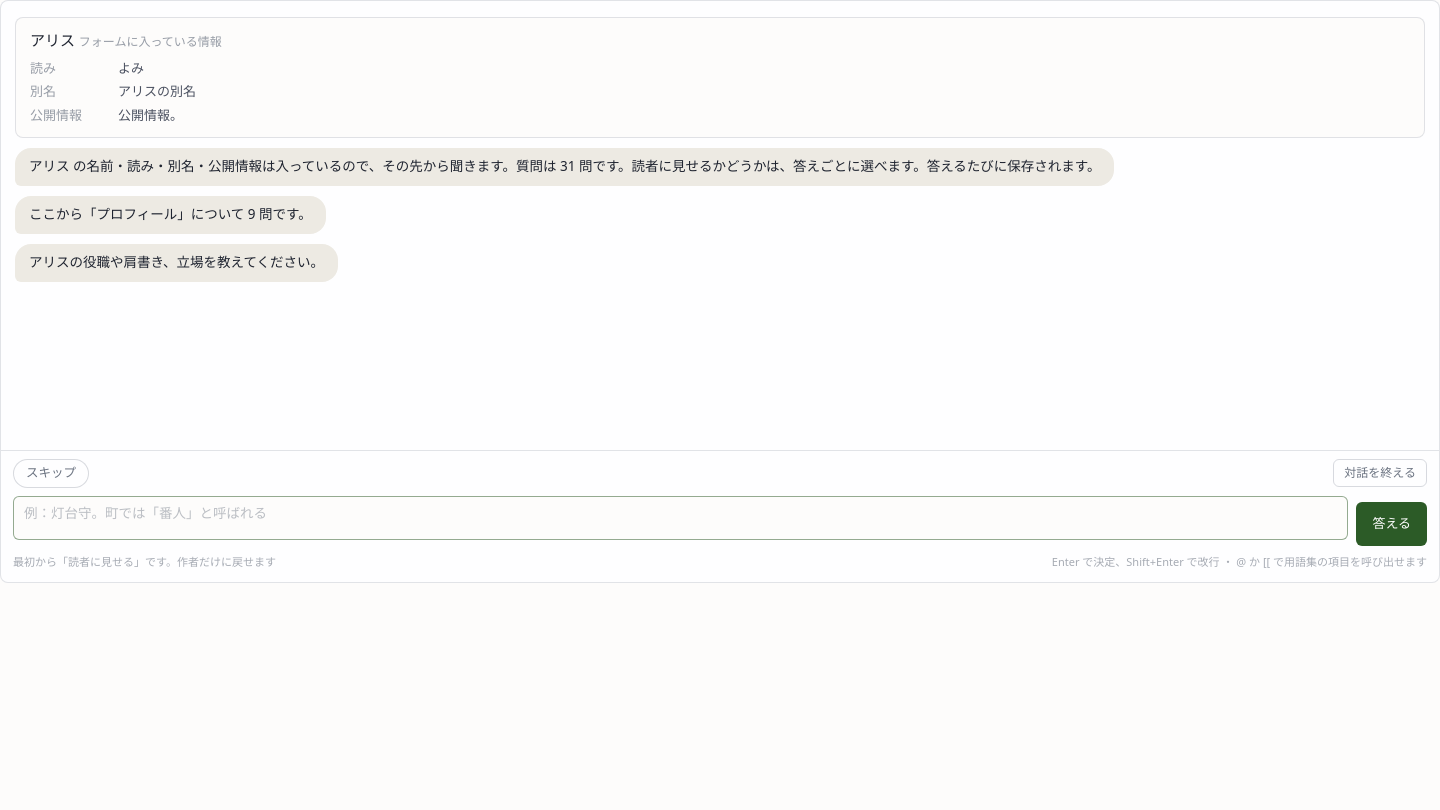
DialogPane（キー操作と保存） › @ の候補が開いている間の Enter は候補の確定で、[ [名前]] が入る（決定しない）
This screenshot has width=1440, height=810.
// 関係の問いまで飛ばす代わりに、最初の問いでそのまま試す
Type "相棒は @ボ" into the text box named "答え".
click(681, 518); type("相棒は @ボ")  # box x1=13 y1=496 x2=1348 y2=540
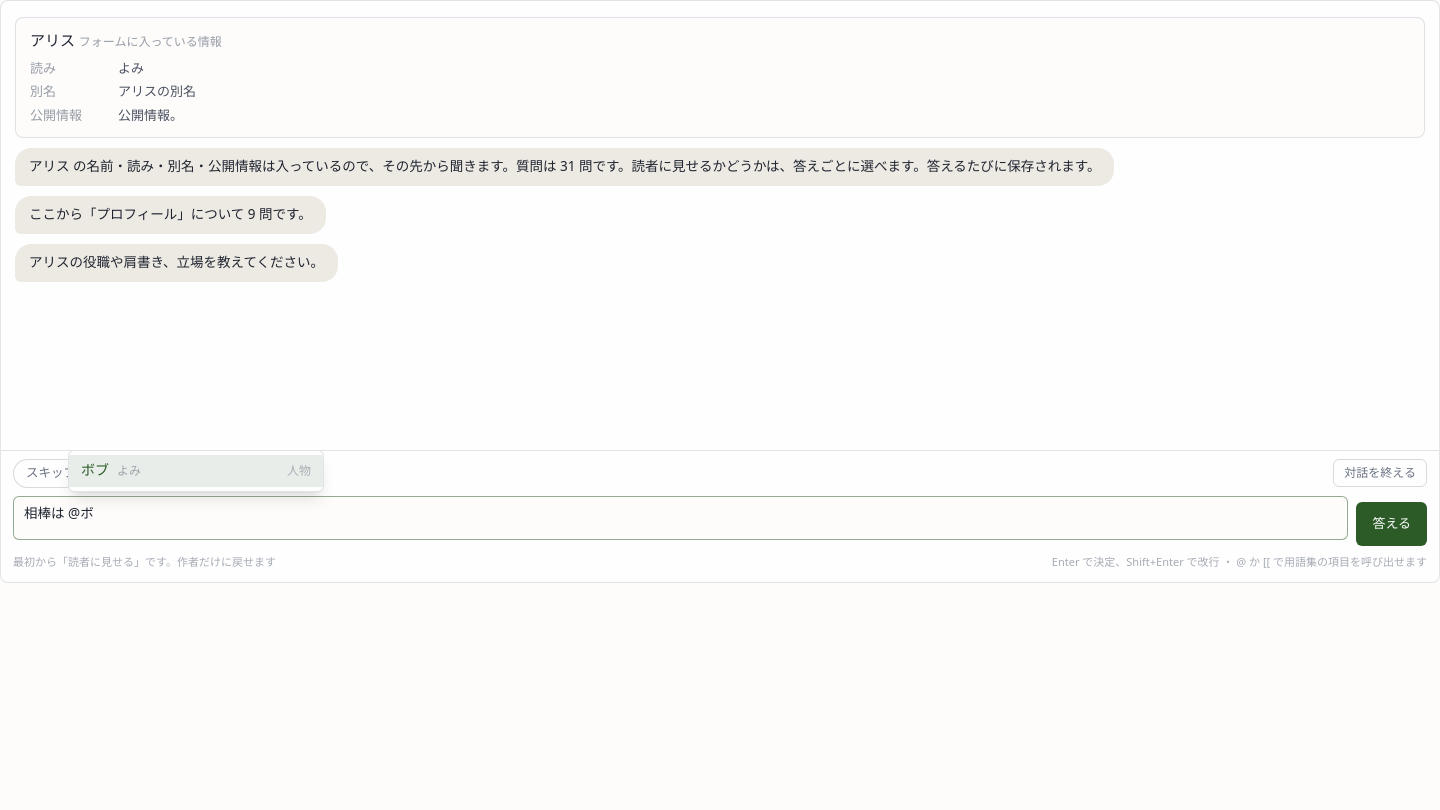
Expected: the option "ボブ よみ 人物" is shown, x1=69 y1=455 x2=323 y2=487
Press Enter in the text box named "答え", box x1=13 y1=496 x2=1348 y2=540
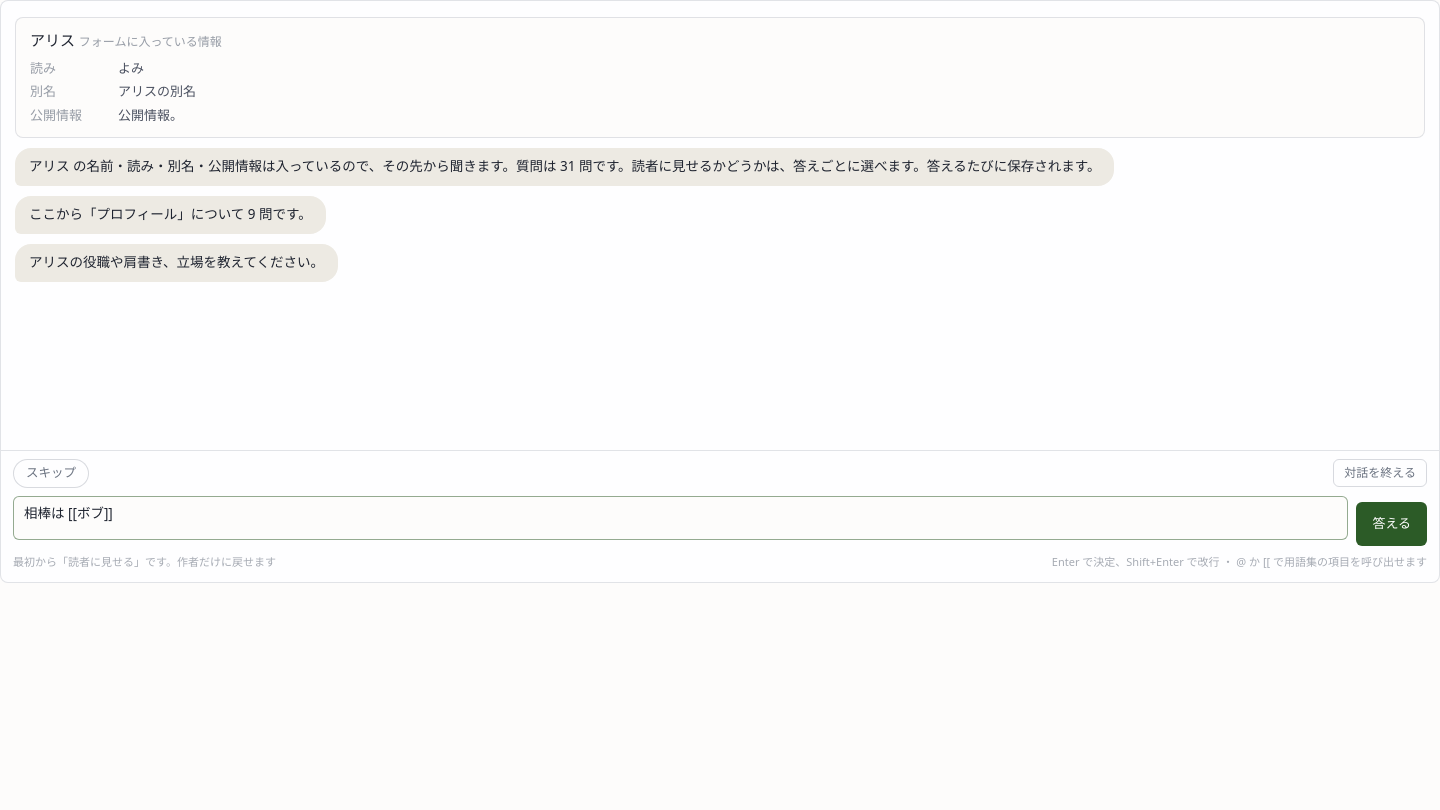
Expected: the text box named "答え" holds "相棒は [ [ボブ]]"
Press Enter in the text box named "答え", box x1=13 y1=496 x2=1348 y2=540
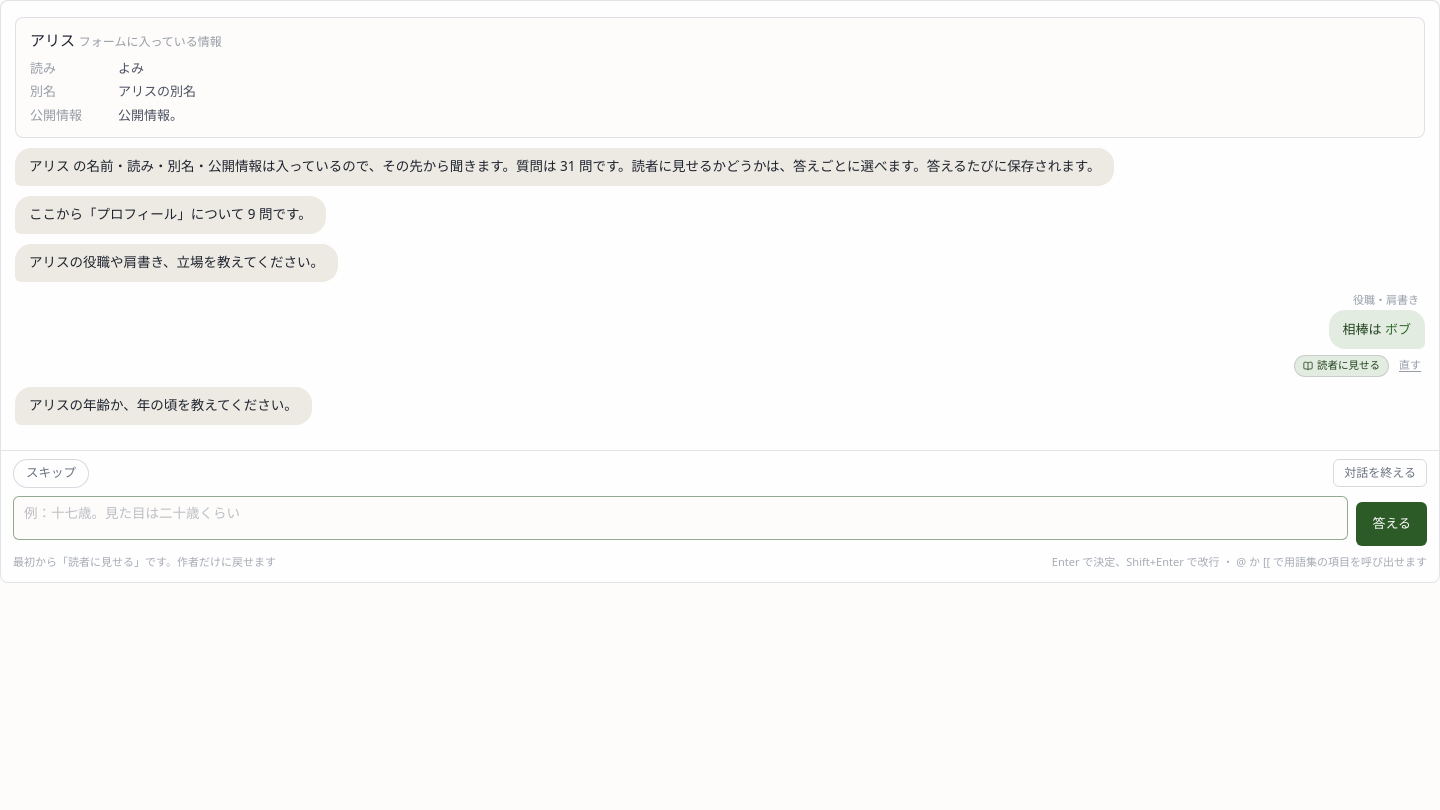
Expected: the link "ボブ" is shown, x1=1385 y1=320 x2=1411 y2=338
